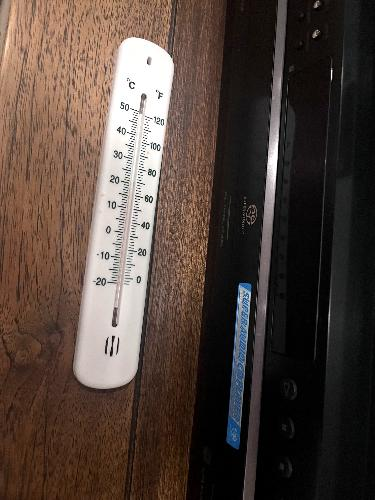thermo: (73, 36, 184, 390)
